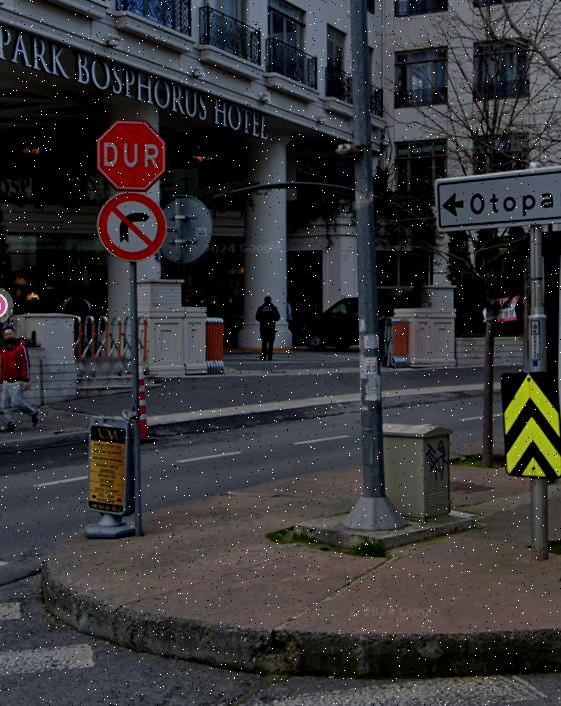rightturnsareforbidden: (97, 191, 168, 258)
stop: (94, 116, 167, 190)
